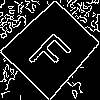F: (26, 23, 80, 78)
